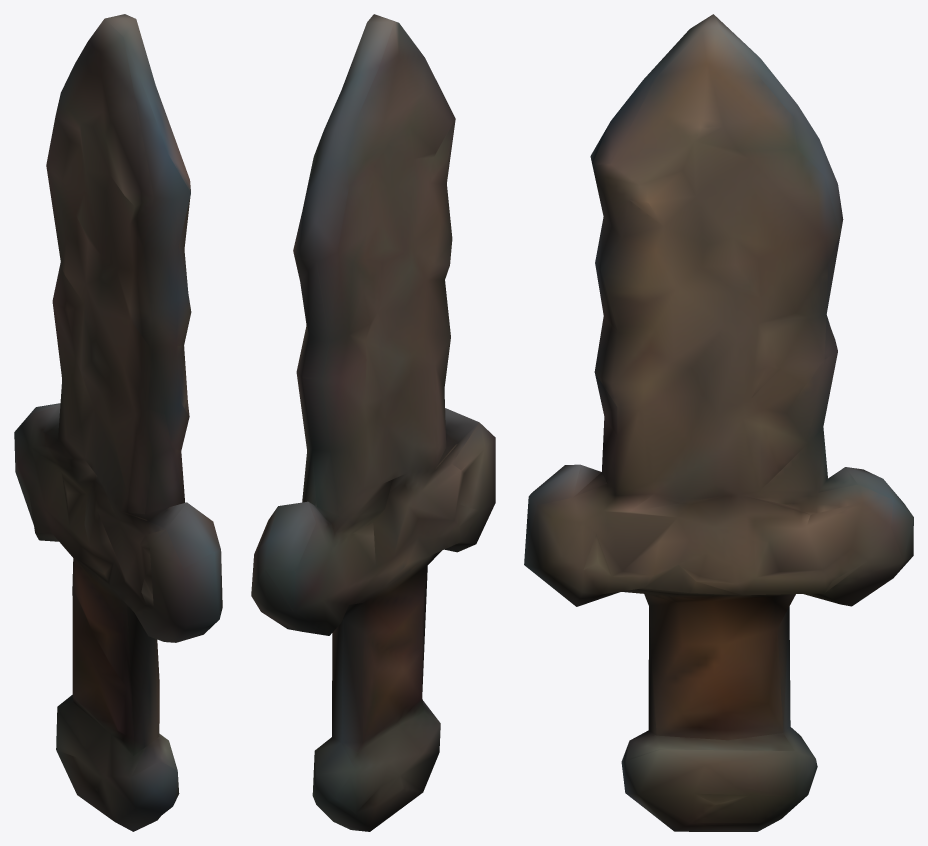
Rendered from sword_stone.glb.
The picture shows the model from 3 angles, left to right: view 1: azimuth 30°, elevation 25°; view 2: azimuth 150°, elevation 25°; view 3: azimuth 270°, elevation 25°; orthographic projection.
Parts seen in each view (by area): view 1: model; view 2: model; view 3: model.
Part boxes in pixels (x1=…): model: x1=14, y1=14, x2=222, y2=831; model: x1=251, y1=14, x2=495, y2=831; model: x1=524, y1=14, x2=913, y2=831.
Size of the model in its own units: 0.0757 by 0.7468 by 0.3269.
1 material, 1 textured.
